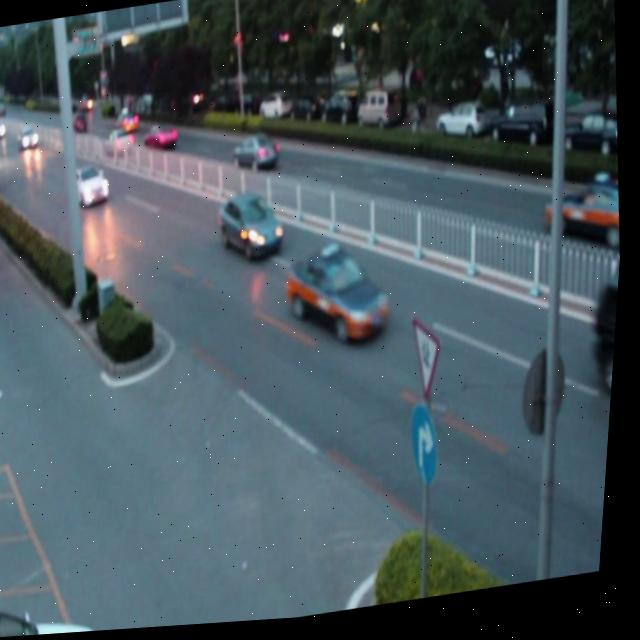car: (288, 241, 397, 353), (545, 185, 627, 266), (215, 190, 287, 266), (0, 591, 113, 639), (72, 164, 113, 206), (233, 135, 280, 171), (145, 125, 178, 151), (107, 129, 136, 155)
